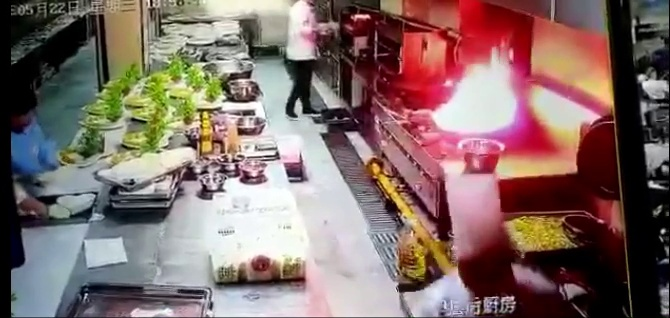fire: (437, 51, 531, 137)
